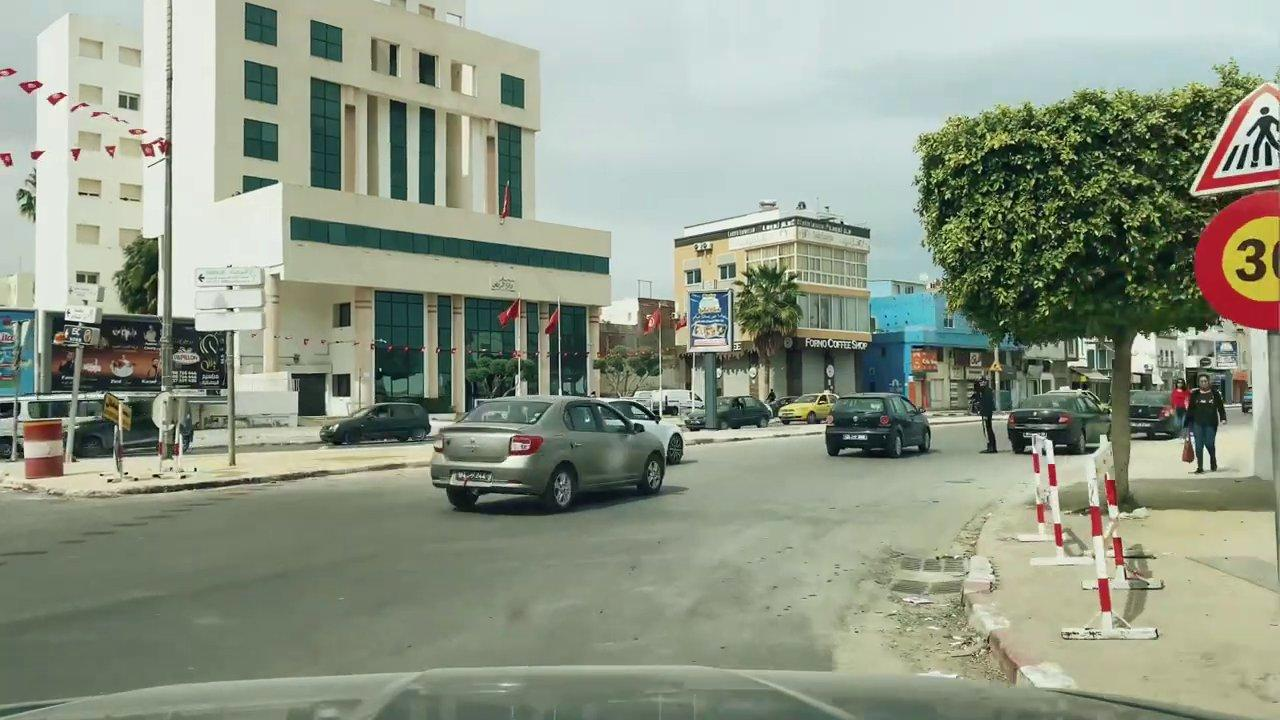pedestrian crossing ahead: (1184, 86, 1280, 205)
speed limit 30: (1190, 189, 1280, 333)
